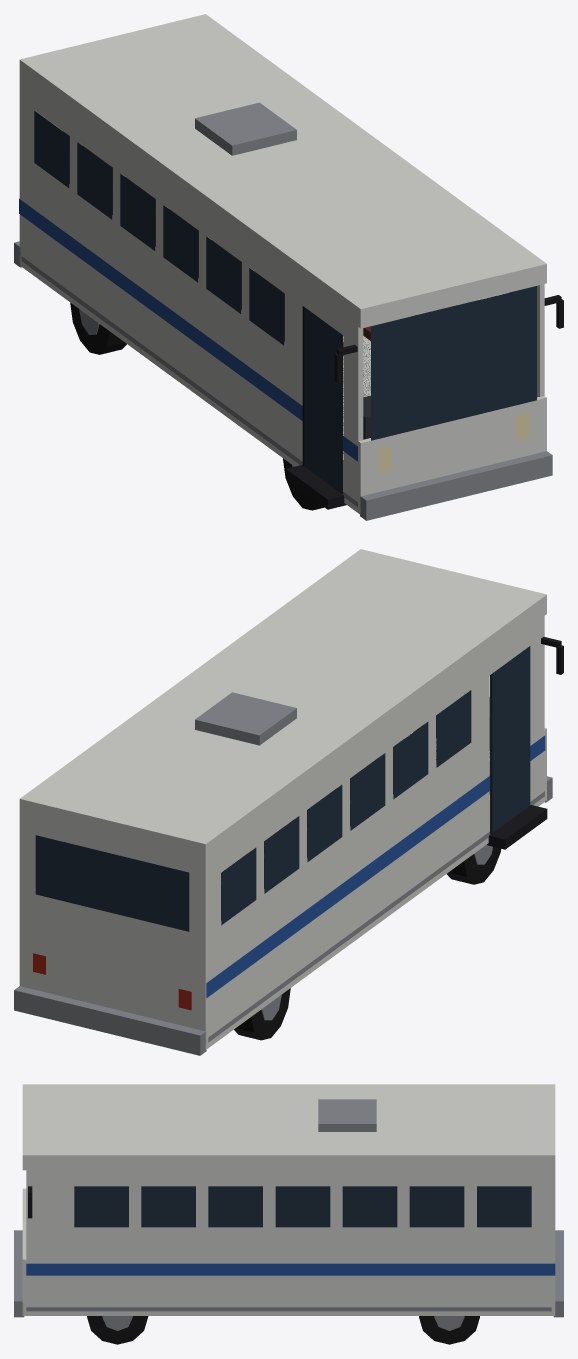
File: vehicle_labour-bus.807434762bed.glb
The picture shows the model from 3 angles, top to bottom: view 1: azimuth 30°, elevation 25°; view 2: azimuth 150°, elevation 25°; view 3: azimuth 270°, elevation 25°; orthographic projection. The views are drawn at different scales.
Parts seen in each view (by area): view 1: body, wheels; view 2: body, wheels; view 3: body, wheels.
Boxes of the visible parts, left/top/right/bottom form: body: left=14, top=14, right=563, bottom=520; wheels: left=70, top=303, right=324, bottom=510; body: left=14, top=549, right=563, bottom=1055; wheels: left=234, top=844, right=501, bottom=1040; body: left=14, top=1084, right=563, bottom=1317; wheels: left=87, top=1316, right=479, bottom=1344.
Size of the model in its own units: 2.8 by 3 by 7.54.
